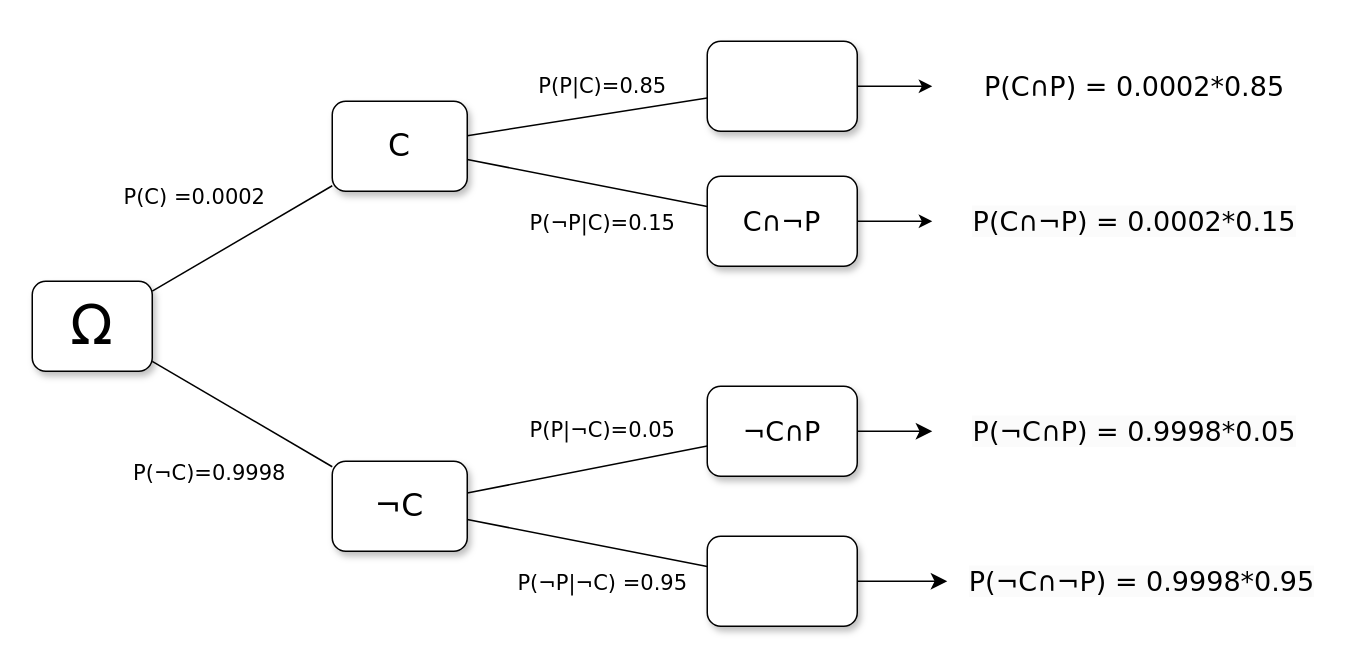
Some shapes in this 1364 by 666 pixel diagram are drawn without their labels. The centre of each missing label's shape, as x and y in pixels:
"C ∩ P" goes at point 783,88.
"¬C∩¬P" goes at point 783,583.
